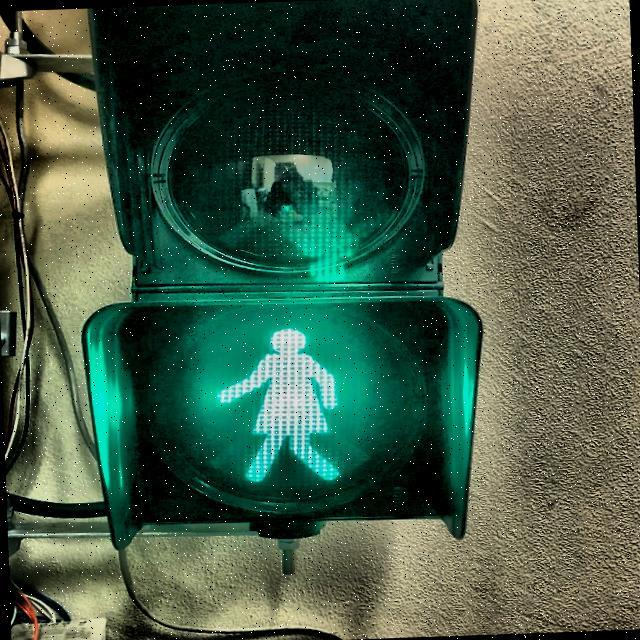green_light: (208, 322, 346, 488)
